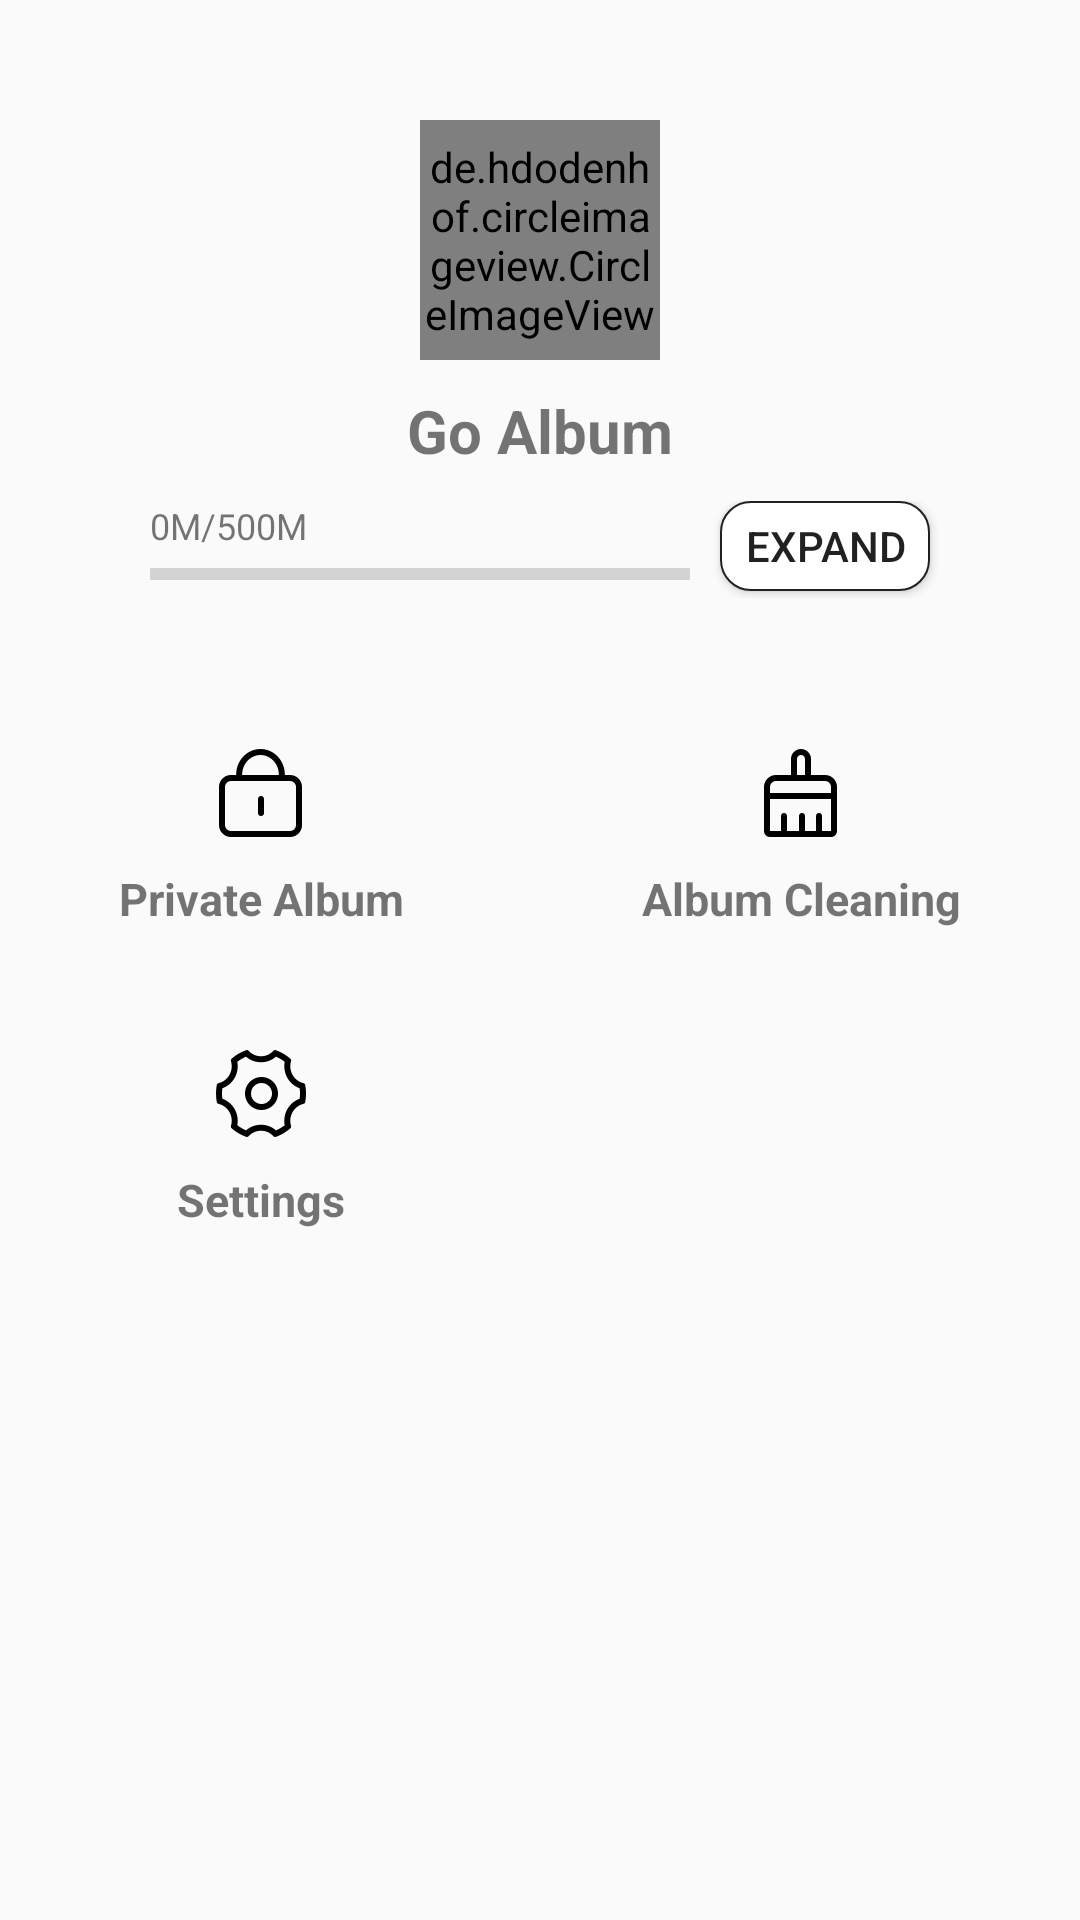

Locate icon controls on the screen. Image size 1080 x 1920, boxes as (x1, y1, x2, y2).
lock: (219, 749, 302, 837)
